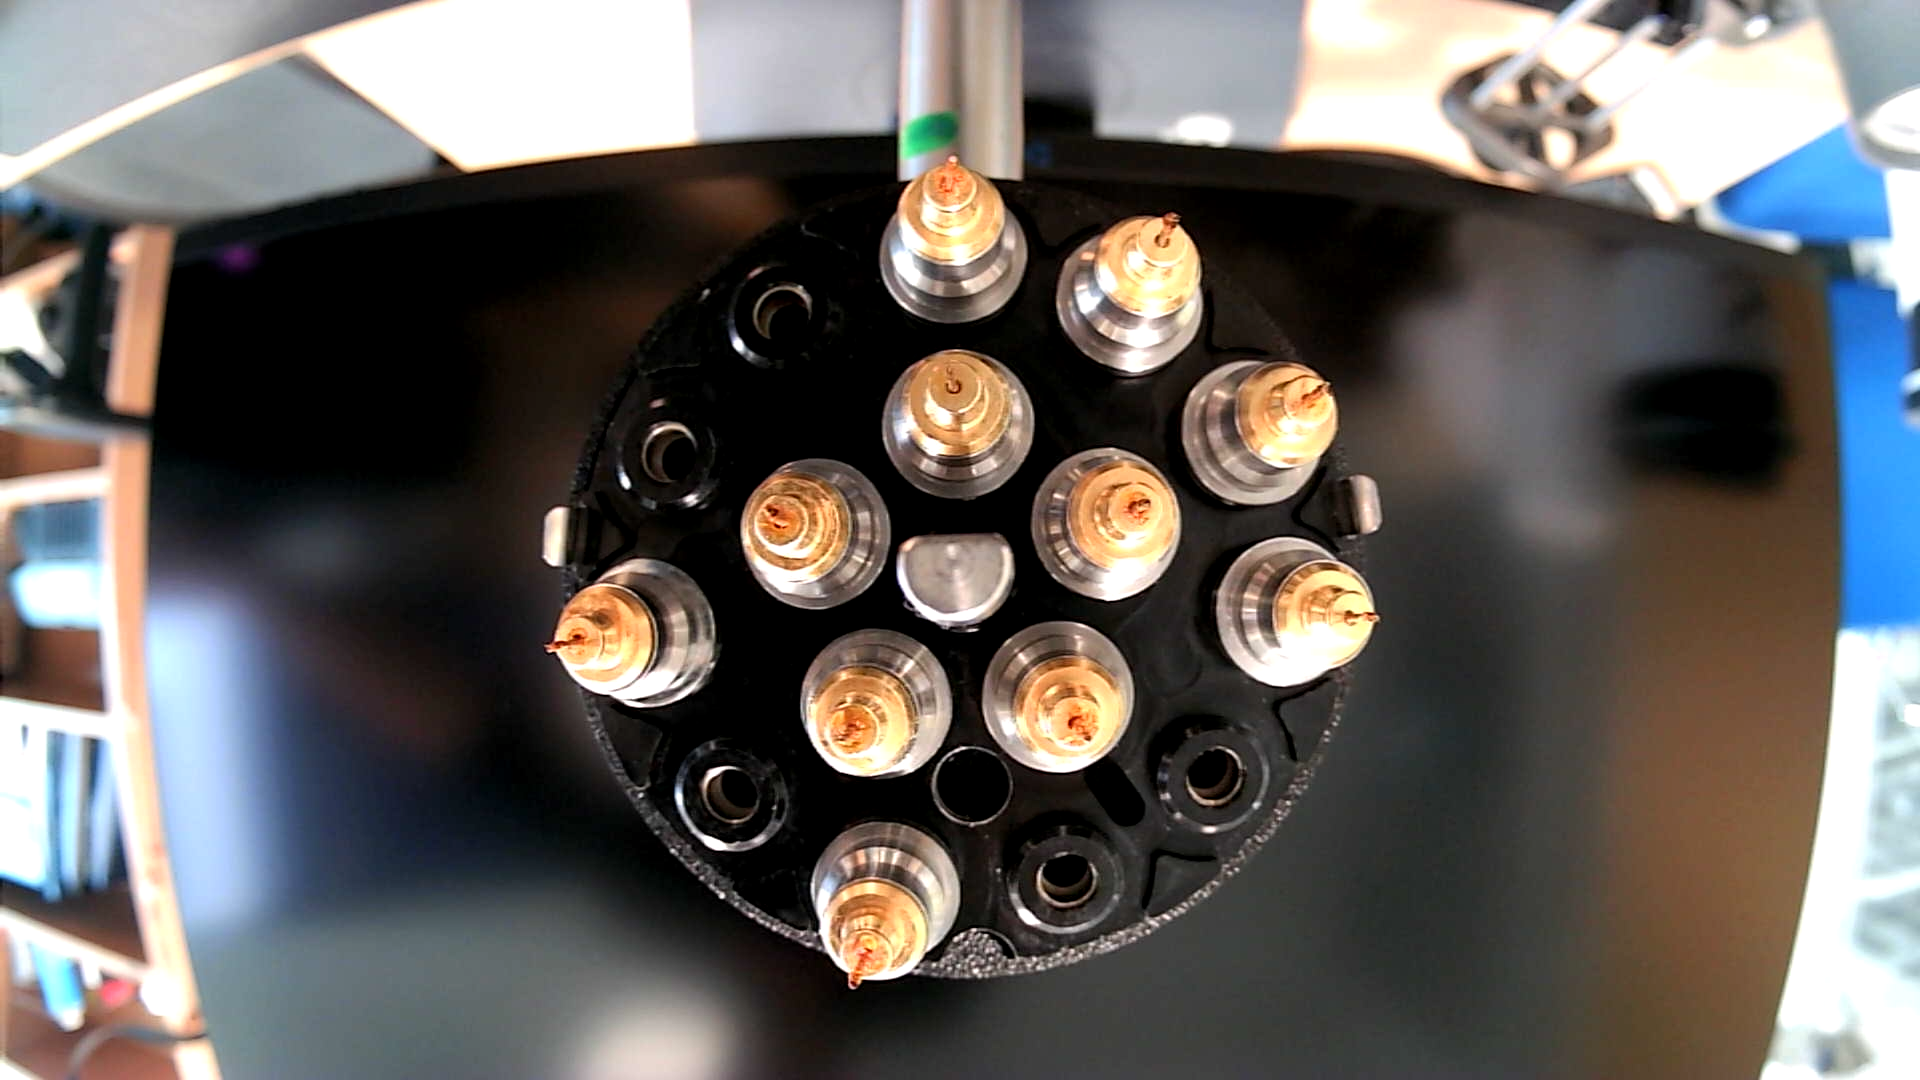empty: (665, 728, 803, 861), (1001, 814, 1137, 942), (609, 386, 735, 520), (1149, 709, 1270, 839), (717, 255, 844, 375)
hole: (930, 742, 1015, 833)
pin: (541, 553, 725, 711), (807, 814, 963, 992), (1205, 533, 1377, 690), (880, 153, 1033, 328), (1055, 208, 1207, 380), (796, 625, 956, 782), (877, 345, 1036, 502), (1029, 446, 1183, 605), (1178, 359, 1337, 513), (977, 621, 1133, 778), (738, 455, 894, 611)
rod: (895, 527, 1017, 632)
